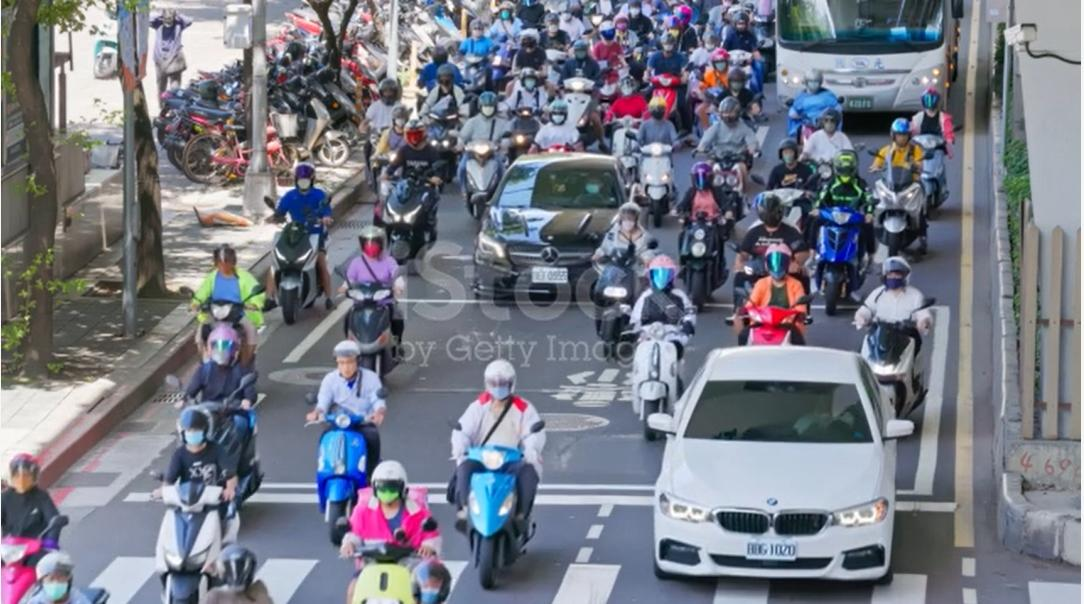bicycle: (184, 111, 298, 192)
bus: (759, 0, 977, 133)
car: (629, 337, 927, 595), (474, 146, 636, 300)
motorcycle: (442, 401, 549, 592), (158, 356, 273, 528), (842, 291, 954, 455), (297, 377, 386, 548), (324, 497, 447, 604), (146, 449, 229, 604), (256, 179, 334, 339), (175, 253, 269, 378), (796, 184, 880, 323), (861, 142, 940, 268), (332, 249, 400, 395), (623, 311, 693, 447), (616, 118, 697, 229), (728, 271, 808, 368), (376, 149, 433, 278), (448, 120, 515, 226), (260, 93, 357, 163), (0, 506, 64, 604), (551, 60, 612, 142), (905, 115, 955, 213), (763, 166, 816, 252), (680, 206, 727, 302), (418, 96, 465, 186), (706, 144, 750, 217), (646, 59, 679, 128)
